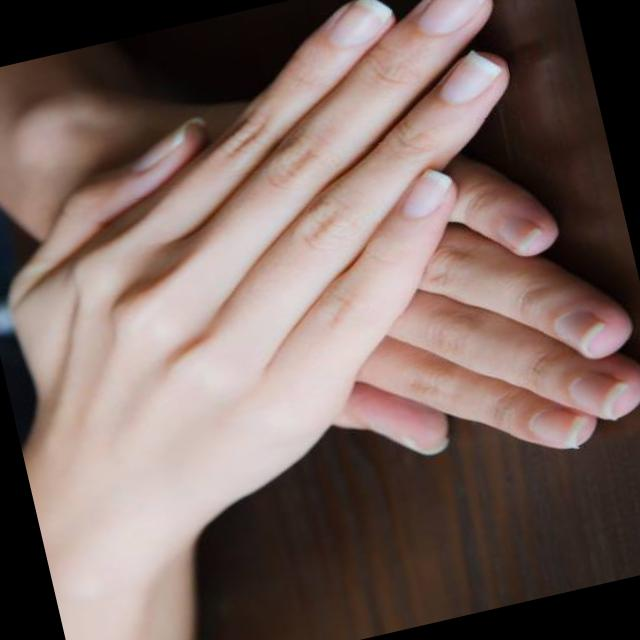Nail: (131, 115, 192, 173), (442, 48, 502, 101), (327, 0, 391, 47), (400, 165, 455, 218), (529, 404, 596, 447), (569, 371, 628, 417), (416, 0, 484, 35), (556, 309, 606, 355), (497, 214, 543, 250)
